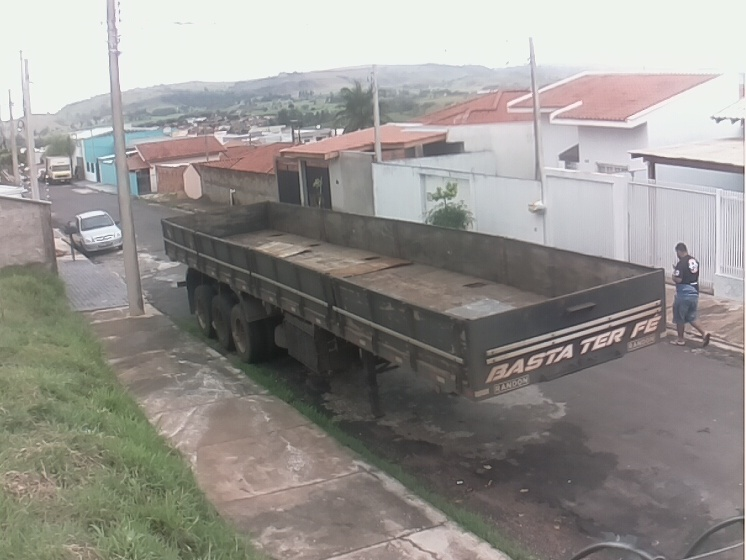person: (668, 241, 712, 348)
